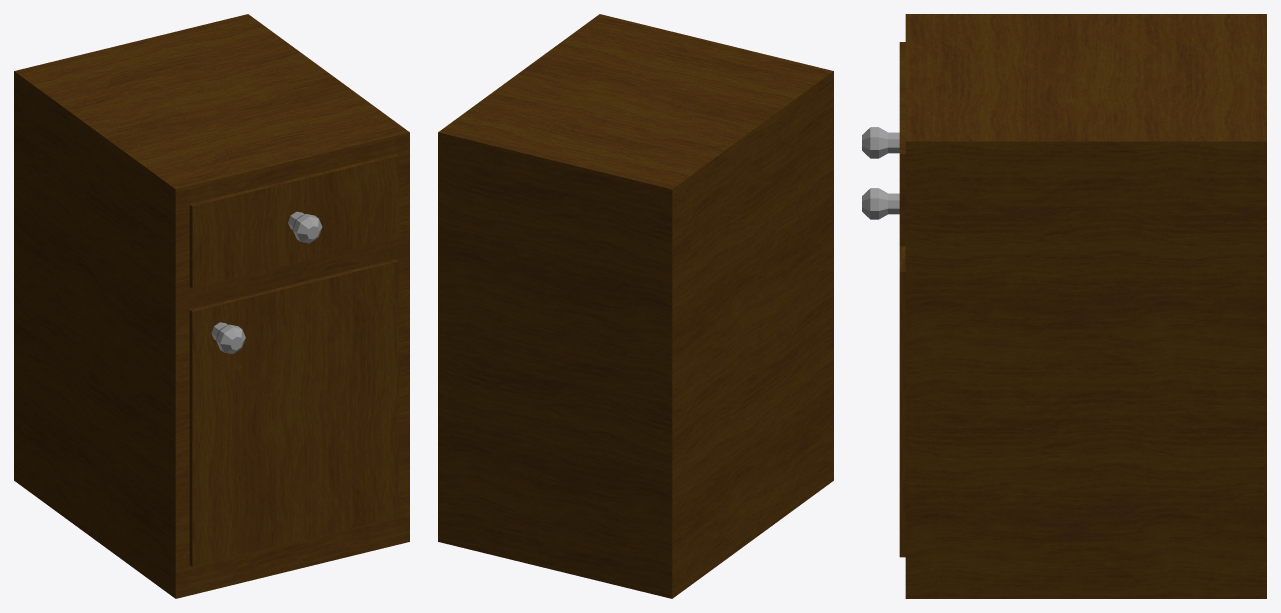
File: Drawer.fbx
The picture shows the model from 3 angles, left to right: view 1: azimuth 30°, elevation 25°; view 2: azimuth 150°, elevation 25°; view 3: azimuth 270°, elevation 25°; orthographic projection. The views are drawn at different scales.
Parts seen in each view (by area): view 1: Door Handle.001; view 2: Door Handle.001; view 3: Door Handle.001.
Boxes of the visible parts, x1,y1,x2,y2 form: Door Handle.001: (14, 14, 409, 598); Door Handle.001: (438, 14, 833, 598); Door Handle.001: (862, 14, 1266, 598).
Size of the model in its own units: 387 by 646 by 518.
Materials: 2 (1 with a texture image).
